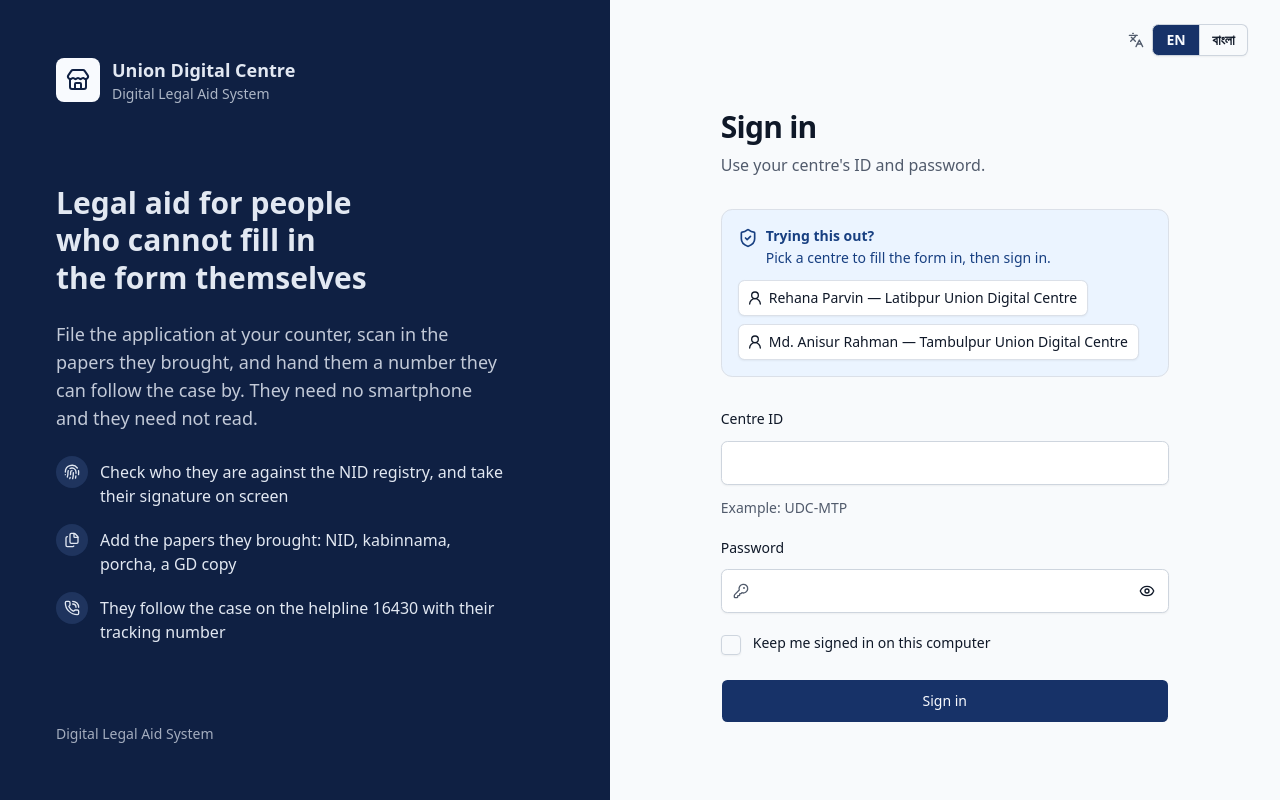
with a backend › shows the server's own words when it refuses something
In the field labelled "Centre ID": (945, 462) [721,440,1169,484], type "UDC-NOPE"
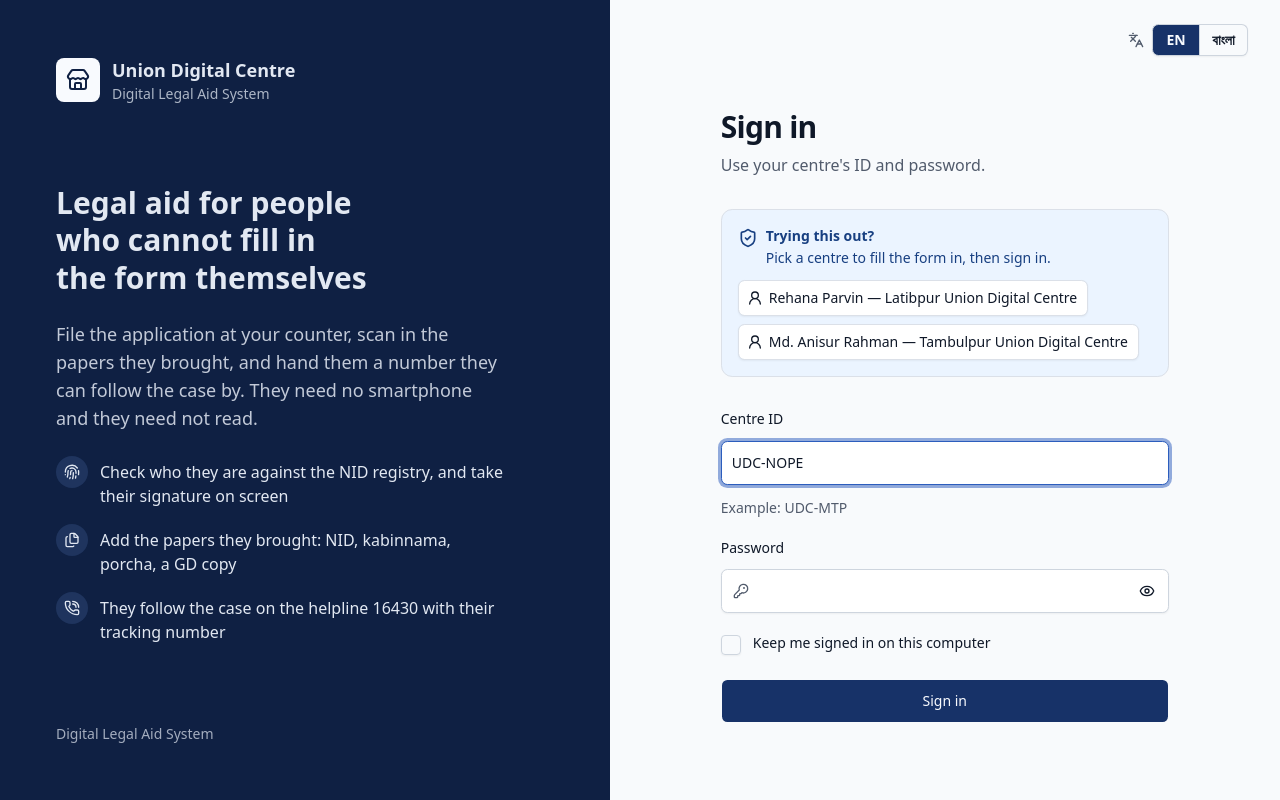
In the password field labelled "Password": (945, 591) [721,569,1169,613], type "demo1234"
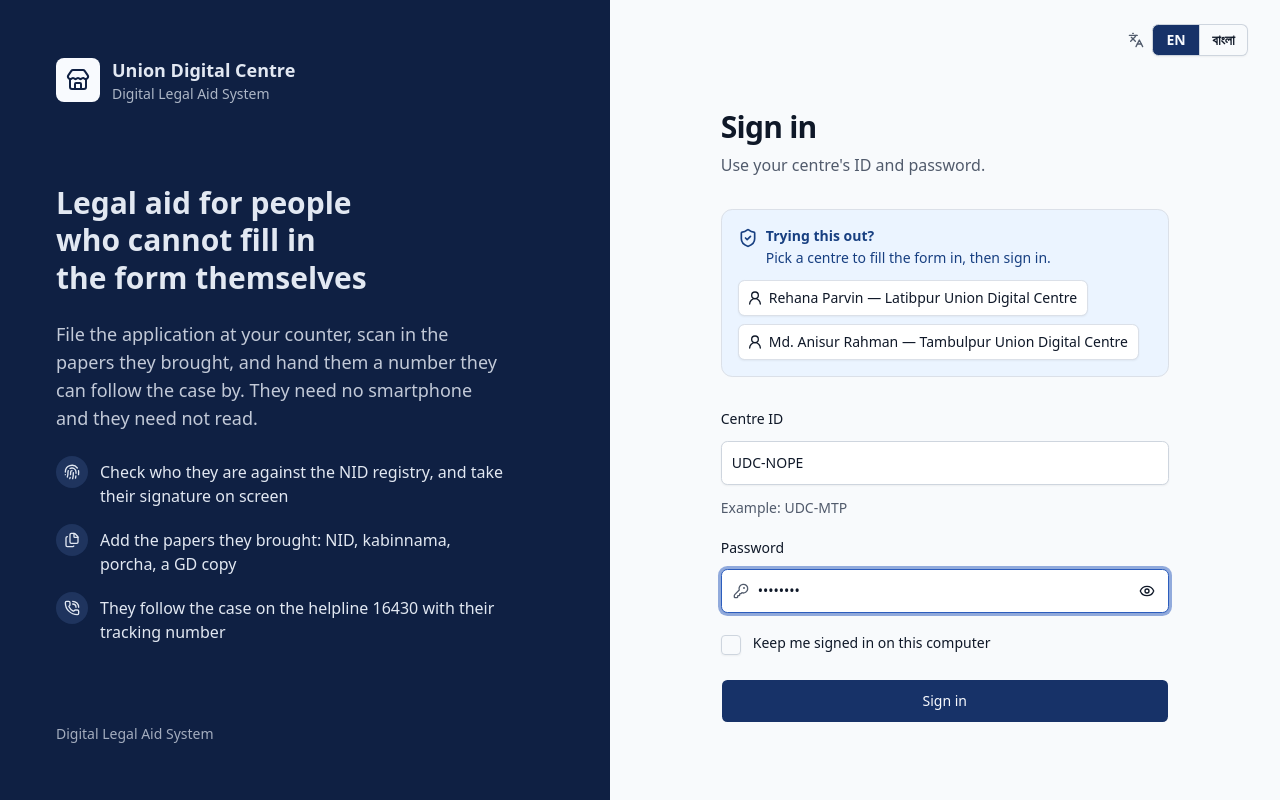
Click the button "Sign in": (945, 701) [721,679,1169,723]
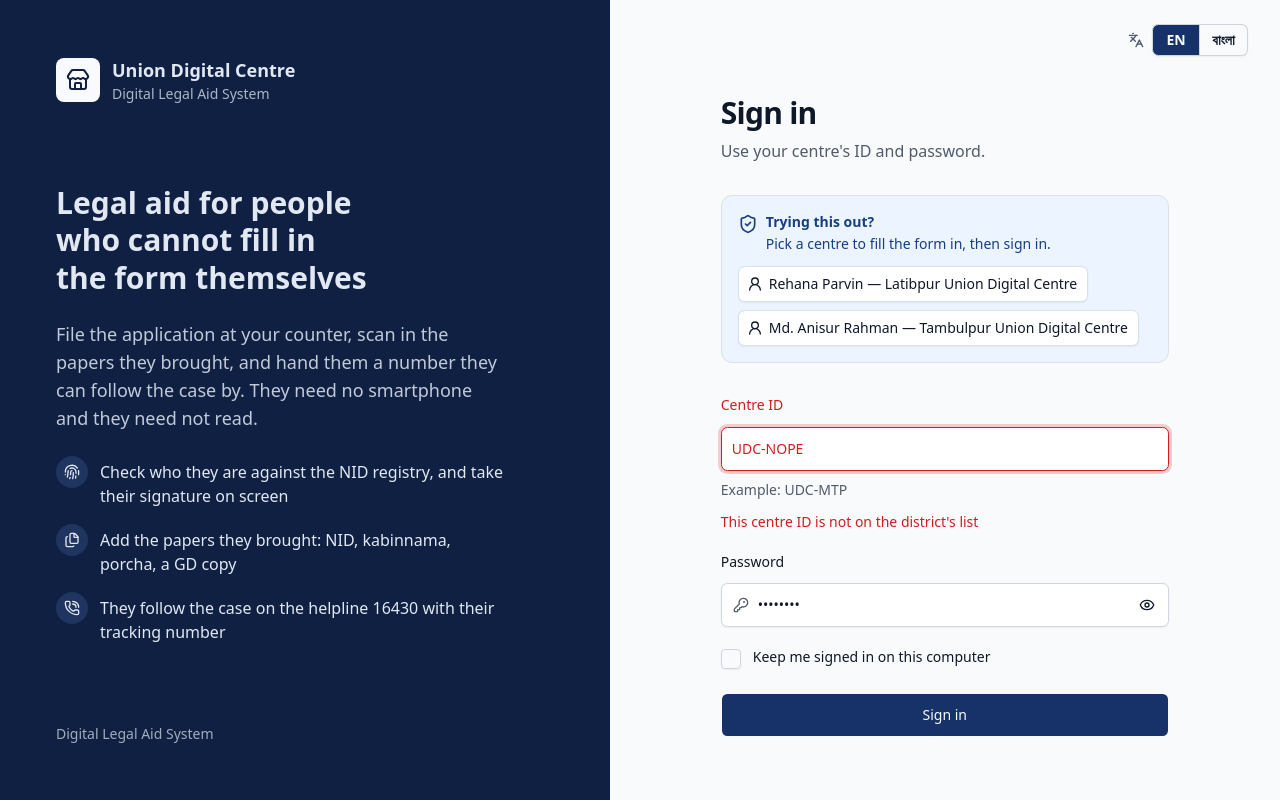
Check: the text "This centre ID is not on the district's list" is shown, box [721,512,978,530]
